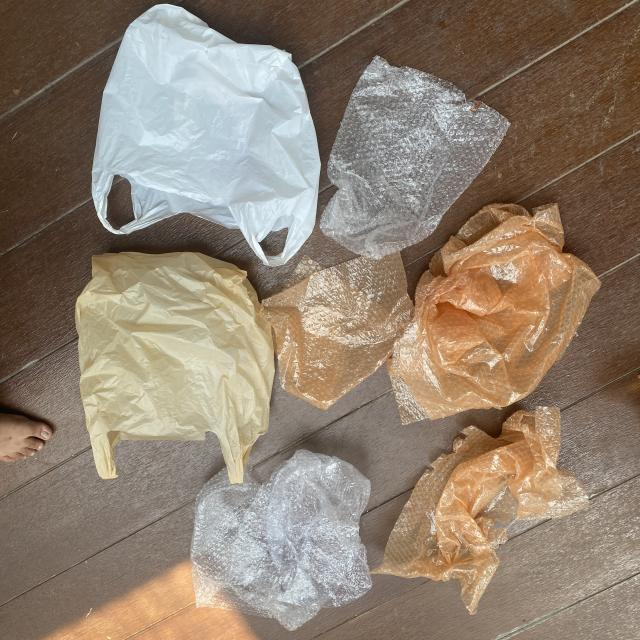Single-layer Plastic: (90, 4, 323, 290), (74, 252, 278, 489), (386, 204, 602, 426), (369, 407, 590, 615), (312, 57, 511, 266), (189, 448, 375, 636), (256, 251, 415, 411)
